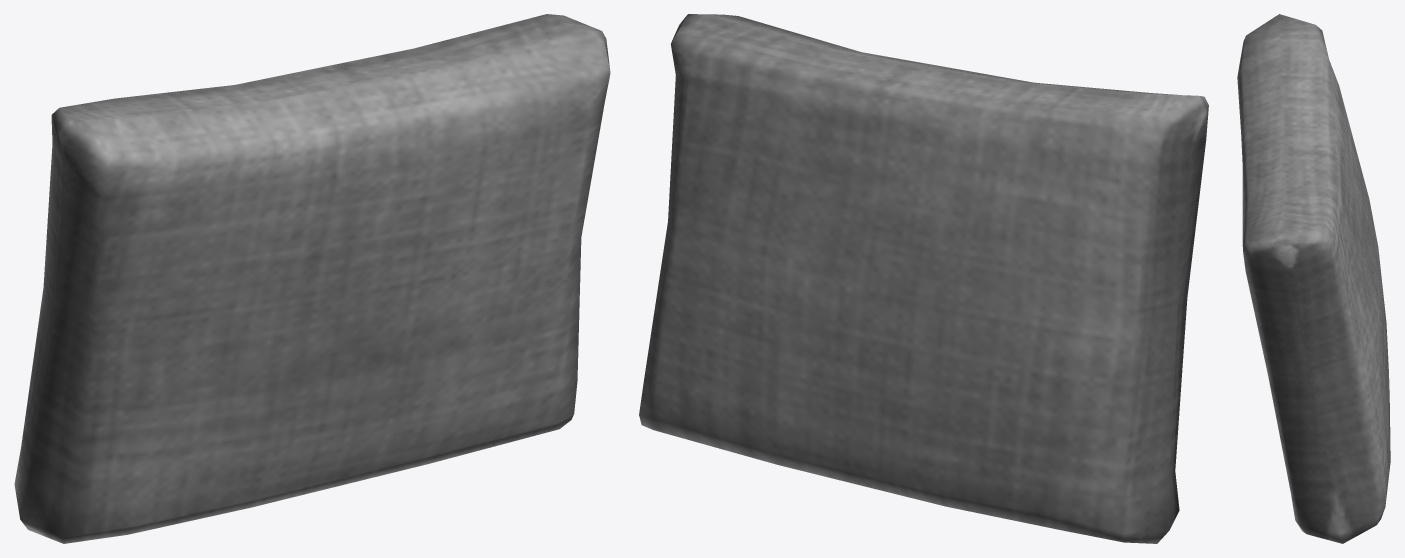
Rendered from Cushion 2.FBX.
The picture shows the model from 3 angles, left to right: view 1: azimuth 30°, elevation 25°; view 2: azimuth 150°, elevation 25°; view 3: azimuth 270°, elevation 25°; orthographic projection. The views are drawn at different scales.
Parts seen in each view (by area): view 1: Cushion02; view 2: Cushion02; view 3: Cushion02.
Part boxes in pixels (x1,y1,x2,y2): Cushion02: (14, 14, 610, 543); Cushion02: (639, 14, 1208, 543); Cushion02: (1237, 14, 1390, 543).
Size of the model in its own units: 80.47 by 62.97 by 25.81.
